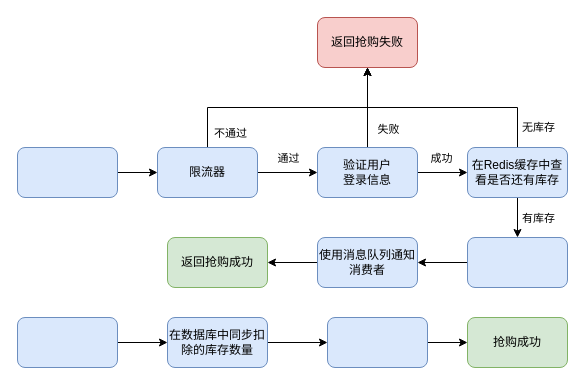
Image size: 585x385. Some labels were removed from this diagram. Here are the shapes that lost their labels. From the top down, the centre of each, then its label:
At [67,172]: "接受http请求".
At [517,262]: "扣除Redis中的库存".
At [67,342]: "接受消息队列中的消息".
At [377,342]: "创建订单".
